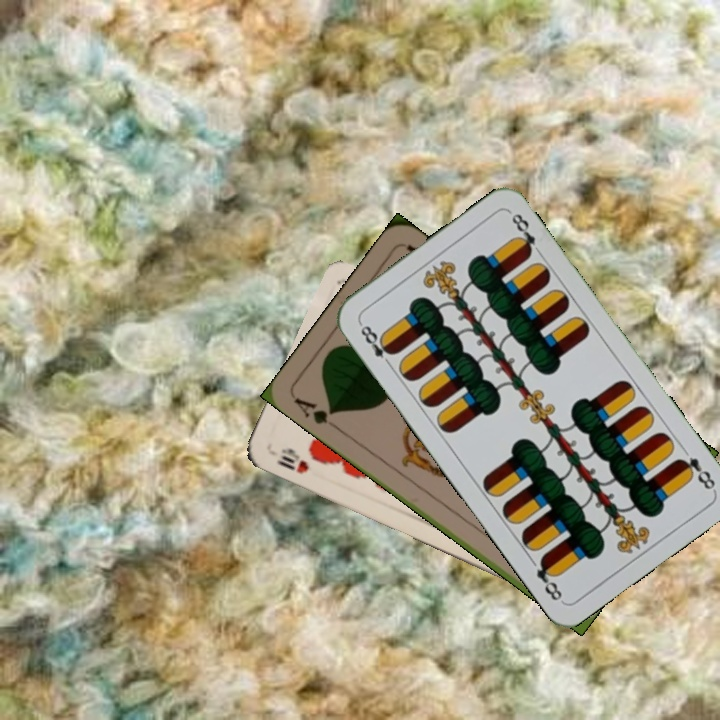E8: (355, 318, 398, 370), (673, 452, 718, 493)
GA: (289, 393, 342, 432)
H10: (273, 444, 312, 477)
